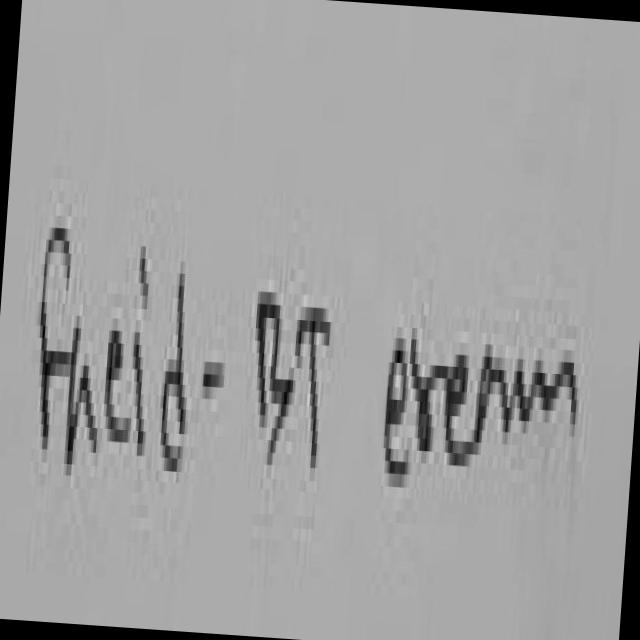B: (236, 222, 308, 488)
F: (12, 158, 82, 536)
T: (286, 258, 346, 502)
a: (468, 320, 515, 468)
c: (366, 322, 422, 519), (92, 274, 144, 486)
d: (149, 244, 207, 506)
e: (434, 294, 484, 491)
i: (116, 222, 162, 511)
m: (507, 290, 591, 468)
r: (402, 299, 451, 496)
u: (56, 296, 110, 506)
